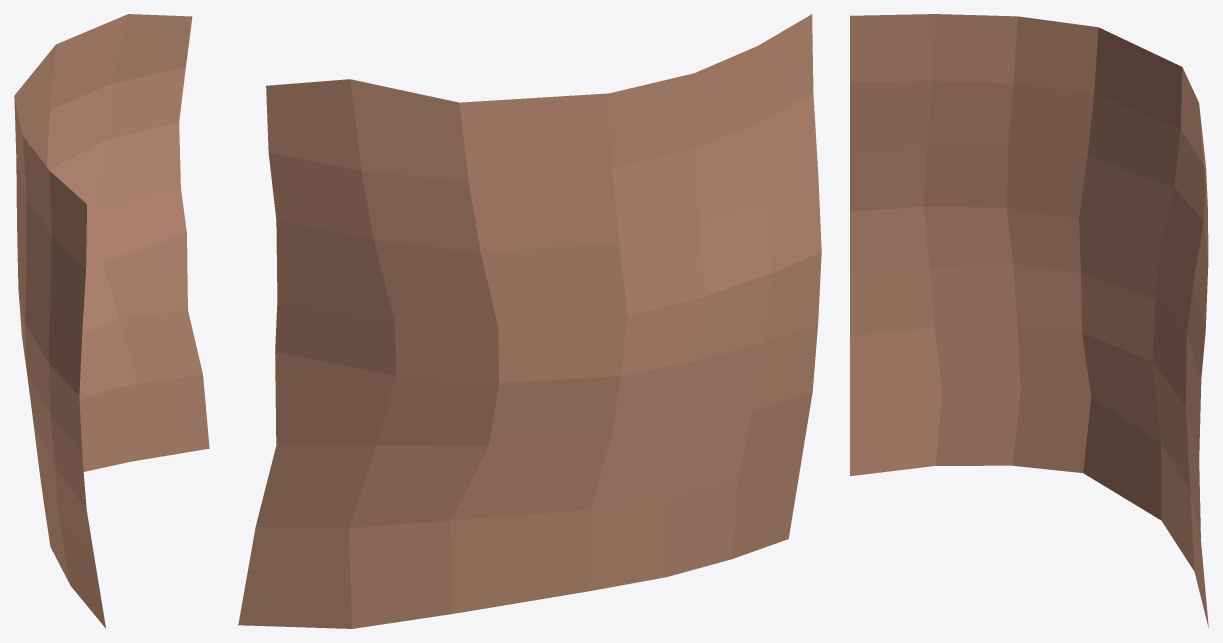
Rendered from jerotorsoder (1).fbx.
3 renders of one model, left to right at view 1: azimuth 30°, elevation 25°; view 2: azimuth 150°, elevation 25°; view 3: azimuth 270°, elevation 25°, orthographic. The views are drawn at different scales.
Parts seen in each view (by area): view 1: Plane.002; view 2: Plane.002; view 3: Plane.002.
Boxes of the visible parts, x1,y1,x2,y2 form: Plane.002: (14, 14, 209, 628); Plane.002: (238, 14, 821, 628); Plane.002: (850, 14, 1208, 627).
Bounding box in the file's own units: 14.83 × 21.62 × 14.58.
